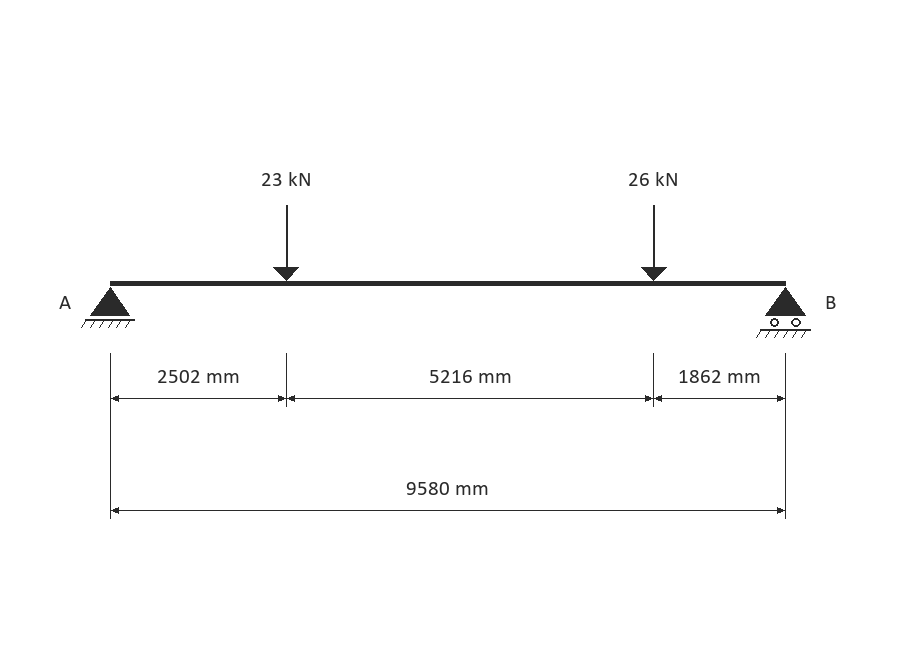pin_support: (81, 287, 135, 328)
point_load: (273, 205, 299, 281), (641, 205, 667, 281)
roller_support: (756, 287, 811, 338)
